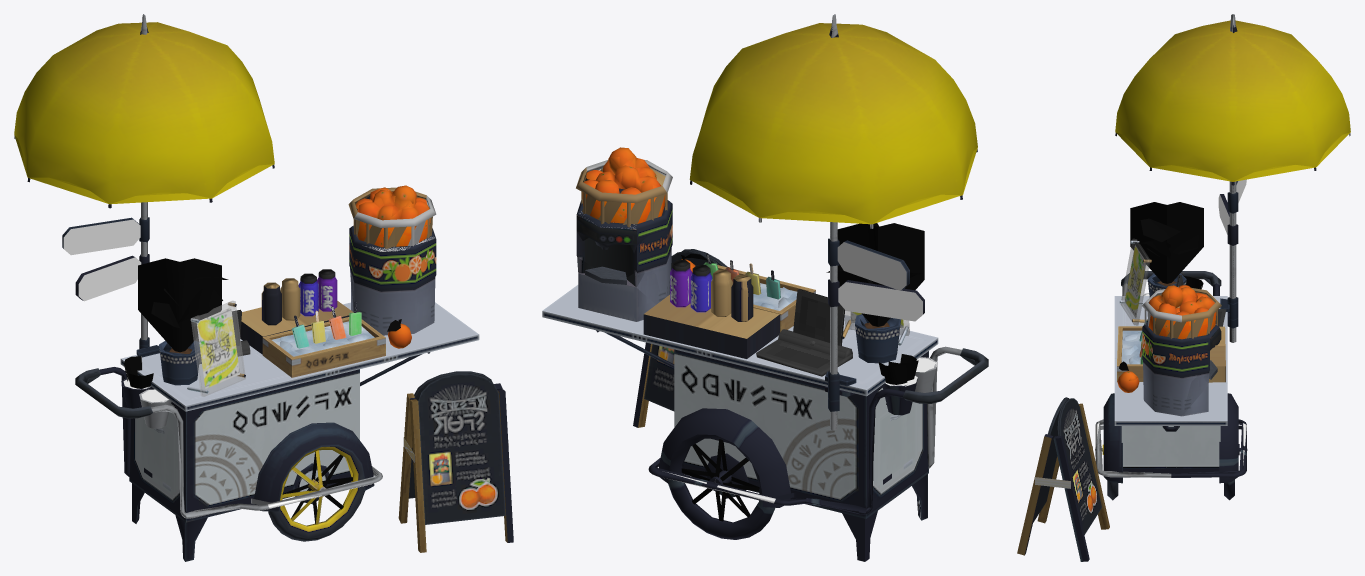
File: objects_un_drink_cart01.gltf
The picture shows the model from 3 angles, left to right: view 1: azimuth 30°, elevation 25°; view 2: azimuth 150°, elevation 25°; view 3: azimuth 270°, elevation 25°; orthographic projection. The views are drawn at different scales.
Parts seen in each view (by area): view 1: um_objects_un_drink_cart01_model_lod0Shape:objects_un_drink_ (×4), um_objects_un_drink_cart01_model_lod1Shape:objects_un_drink_ (×2), glass_01_shape:objects_un_drink_cart01_04, um_objects_un_drink_cart01_model_lod2Shape:objects_un_drink_; view 2: um_objects_un_drink_cart01_model_lod0Shape:objects_un_drink_ (×5), um_objects_un_drink_cart01_model_lod1Shape:objects_un_drink_ (×3), um_objects_un_drink_cart01_model_lod2Shape:objects_un_drink_ (×2); view 3: um_objects_un_drink_cart01_model_lod0Shape:objects_un_drink_ (×4), um_objects_un_drink_cart01_model_lod1Shape:objects_un_drink_ (×2), um_objects_un_drink_cart01_model_lod2Shape:objects_un_drink_ (×2), glass_01_shape:objects_un_drink_cart01_04.
Boxes of the visible parts, <box> form: um_objects_un_drink_cart01_model_lod0Shape:objects_un_drink_ (×4): <box>14,14,513,561</box>; um_objects_un_drink_cart01_model_lod1Shape:objects_un_drink_ (×2): <box>19,142,498,538</box>; glass_01_shape:objects_un_drink_cart01_04: <box>191,300,245,396</box>; um_objects_un_drink_cart01_model_lod2Shape:objects_un_drink_: <box>14,25,493,517</box>; um_objects_un_drink_cart01_model_lod0Shape:objects_un_drink_ (×5): <box>542,14,988,561</box>; um_objects_un_drink_cart01_model_lod1Shape:objects_un_drink_ (×3): <box>576,154,982,536</box>; um_objects_un_drink_cart01_model_lod2Shape:objects_un_drink_ (×2): <box>585,24,977,513</box>; um_objects_un_drink_cart01_model_lod0Shape:objects_un_drink_ (×4): <box>1017,14,1350,561</box>; um_objects_un_drink_cart01_model_lod1Shape:objects_un_drink_ (×2): <box>1056,136,1340,473</box>; um_objects_un_drink_cart01_model_lod2Shape:objects_un_drink_ (×2): <box>1065,23,1350,473</box>; glass_01_shape:objects_un_drink_cart01_04: <box>1120,238,1150,325</box>.
Size of what is drawn, in the model's own units: 2.45 by 3.05 by 2.11.
Materials: 6 (5 with a texture image).
